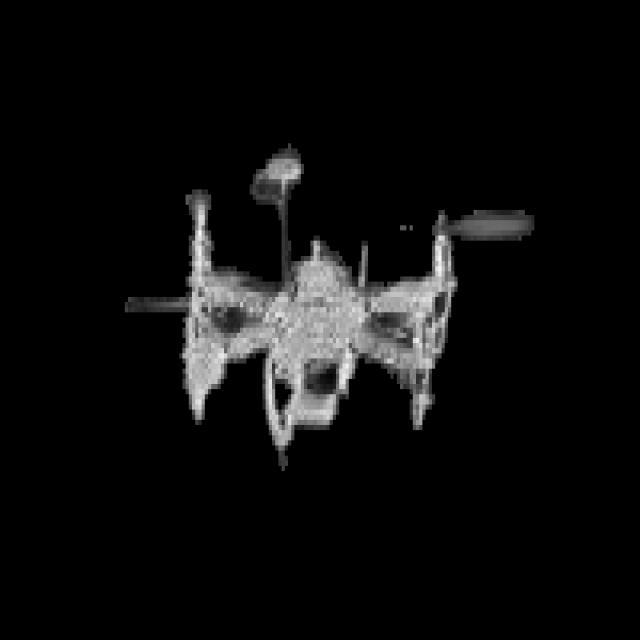drone: (130, 110, 530, 480)
